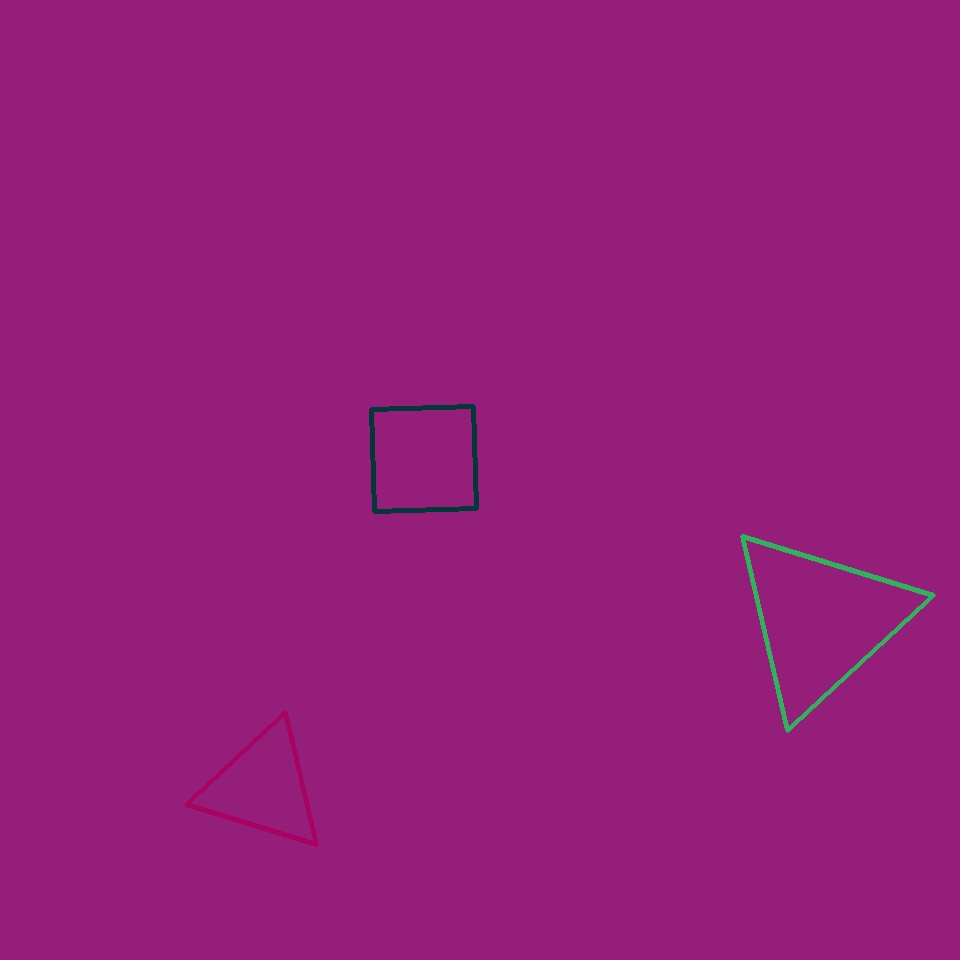circle: (726, 524, 916, 718), (198, 721, 328, 853)
square: (372, 406, 476, 512)
